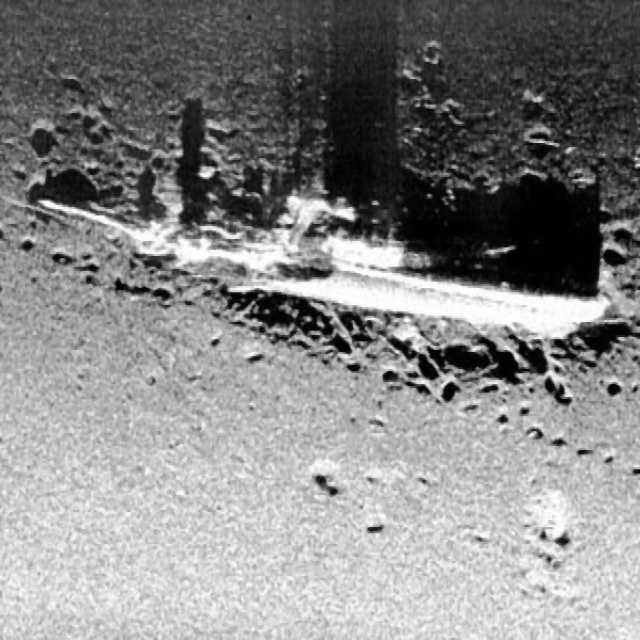Ship: (16, 139, 624, 368)
